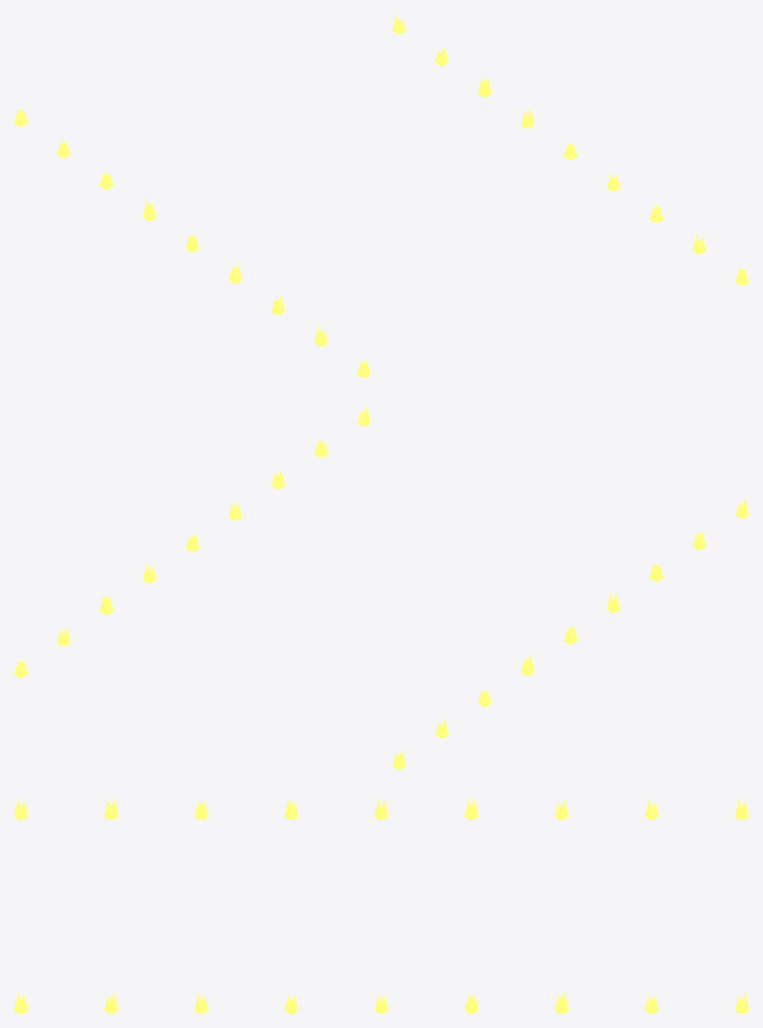
The model's file is BrazierFire.fbx.
3 renders of one model, top to bottom at view 1: azimuth 30°, elevation 25°; view 2: azimuth 150°, elevation 25°; view 3: azimuth 270°, elevation 25°, orthographic. The views are drawn at different scales.
Visible parts, largest first — view 1: Flame-56.0_8_0.001; view 2: Flame-56.0_8_0.001; view 3: Flame-56.0_8_0.001.
Part boxes in pixels (x1,y1,x2,y2): Flame-56.0_8_0.001: (14,14,748,377); Flame-56.0_8_0.001: (14,406,748,769); Flame-56.0_8_0.001: (14,798,748,1013).
Size of the model in its own units: 11502 by 494 by 17949.
